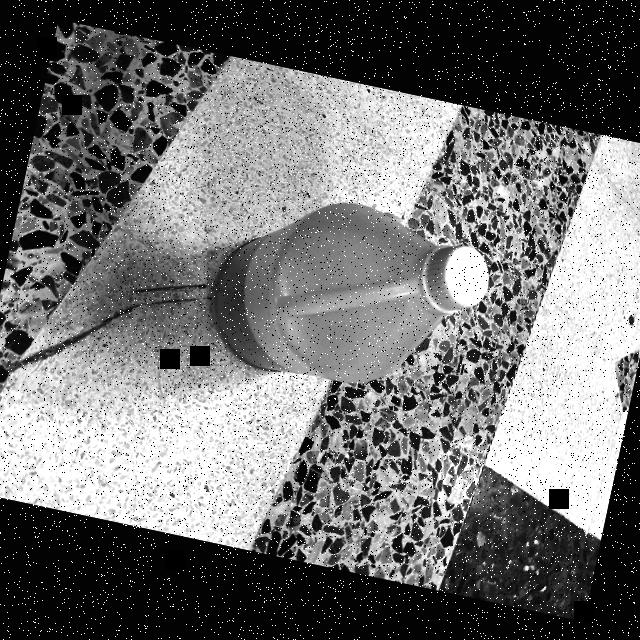chemical_plastic_gallon: (193, 172, 505, 417)
